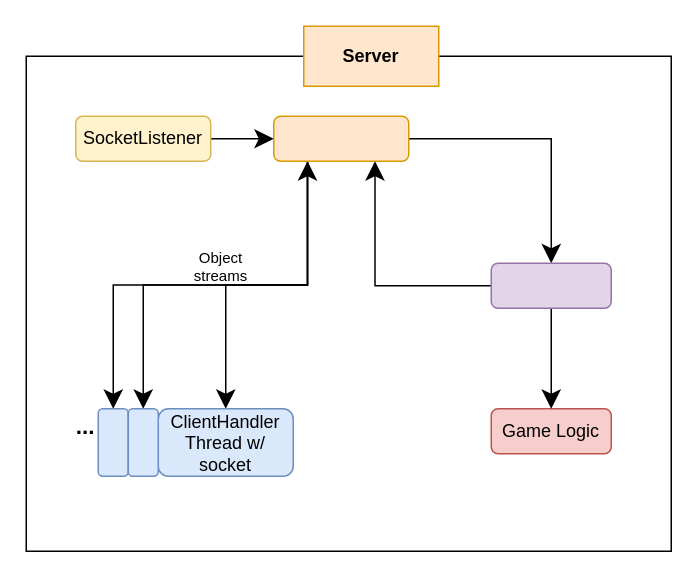
Some shapes in this 698 by 578 pixel diagram are drawn without their labels. The shapes that lost their labels are listed below. From the top down, each one's centre as x and y in pixels, then its label:
(340,138): Common runtime
(550,285): State renderer
